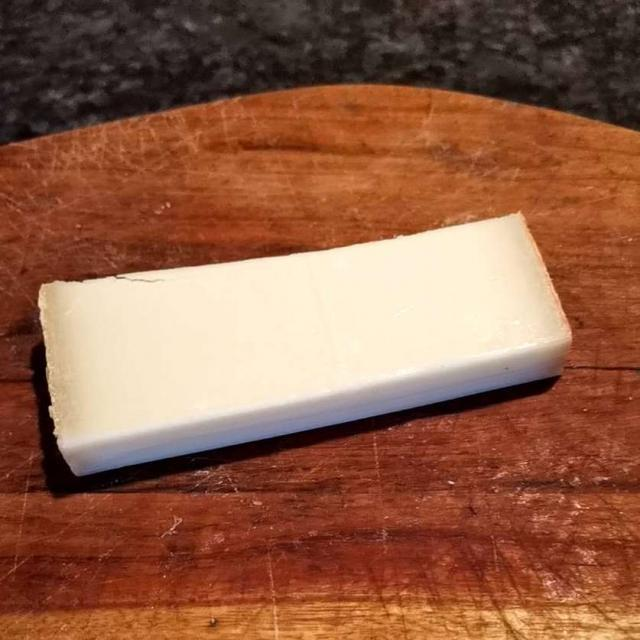gruyere: (40, 223, 559, 452)
